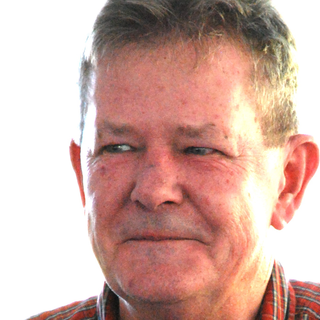eye: (174, 140, 225, 163), (101, 139, 144, 162)
